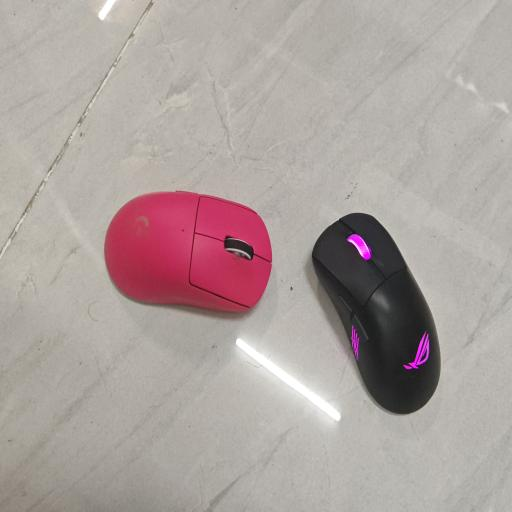mouse: (312, 213, 440, 413), (104, 192, 272, 311)
